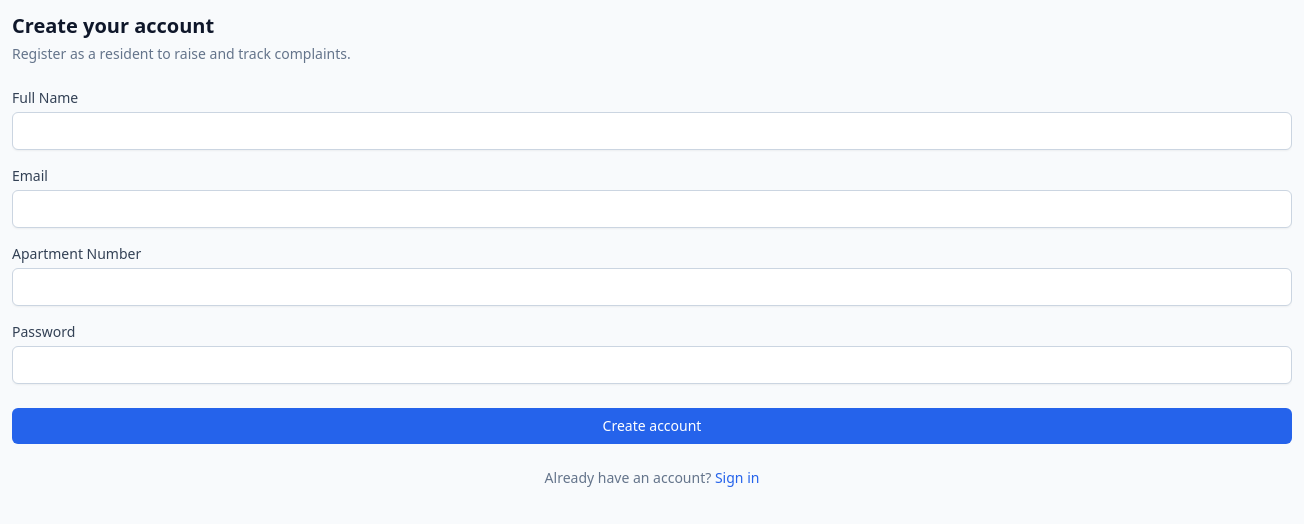
Test case: Registration validation › requires an apartment number
In the field labelled "Full Name": (652, 131) [12,112,1292,150], type "New Resident"
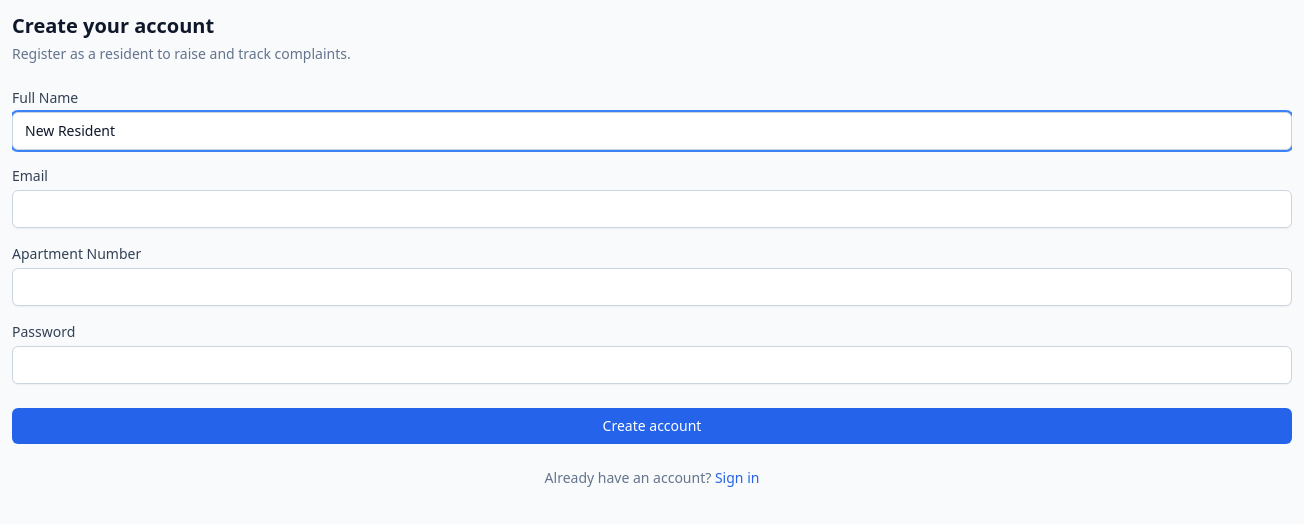
In the field labelled "Email": (652, 209) [12,190,1292,228], type "new@example.com"
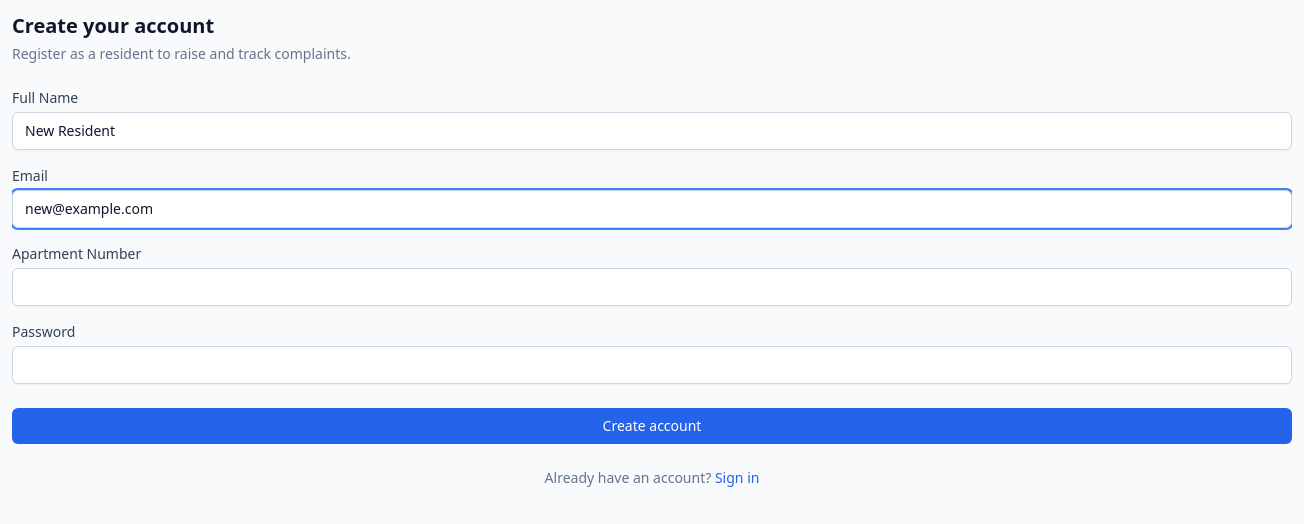
In the password field labelled "Password": (652, 365) [12,346,1292,384], type "Password@123"
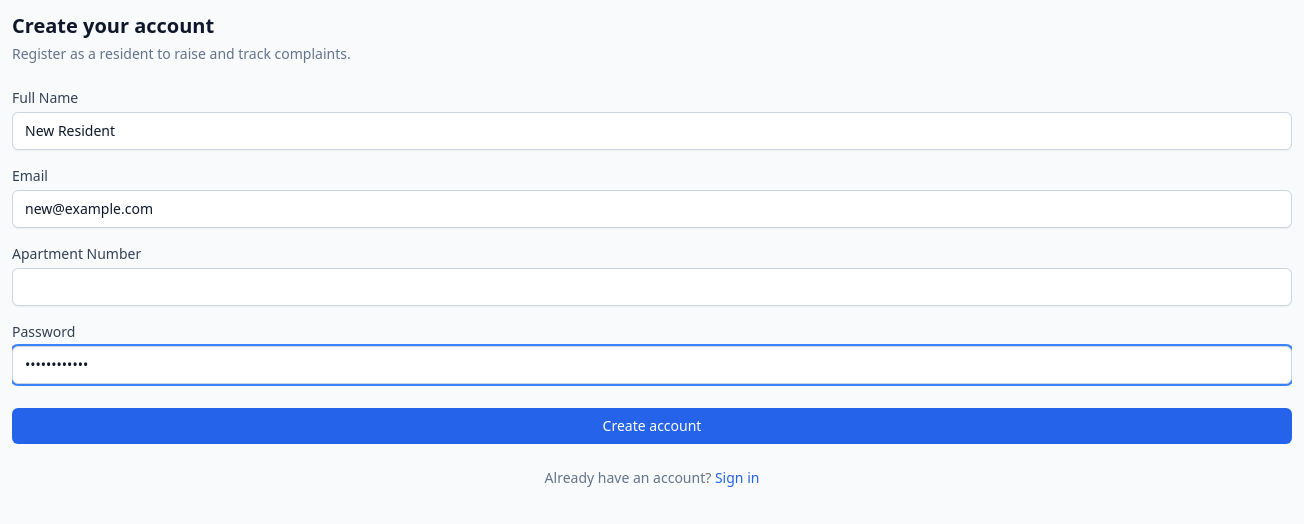
Click the button "Create account": click(652, 426) [12,408,1292,444]
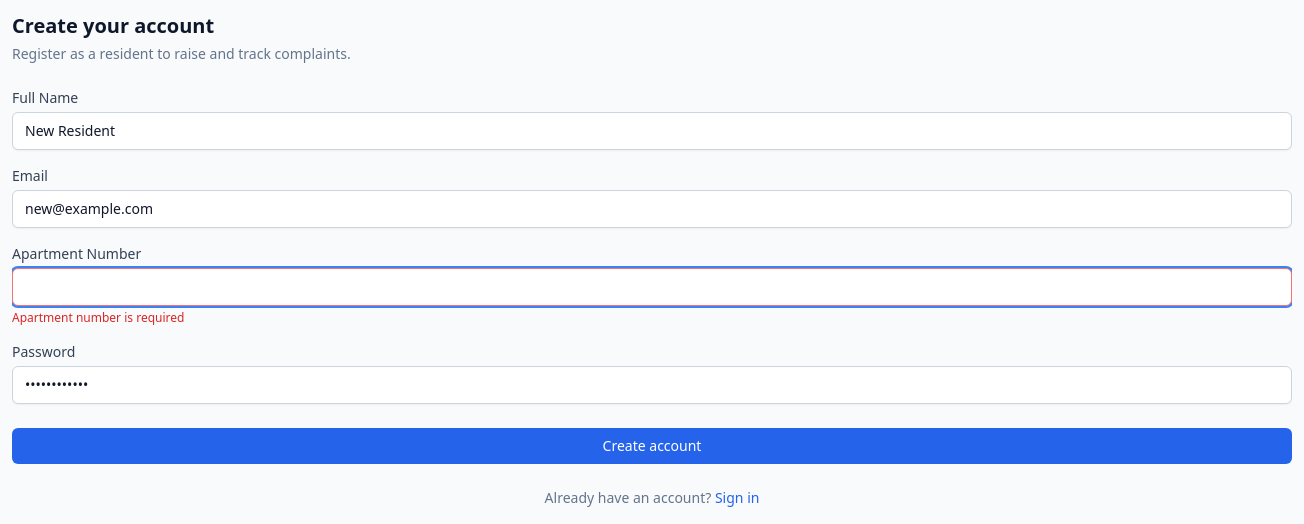
Now the text "Apartment number is required" is shown, box [12,309,184,326]
